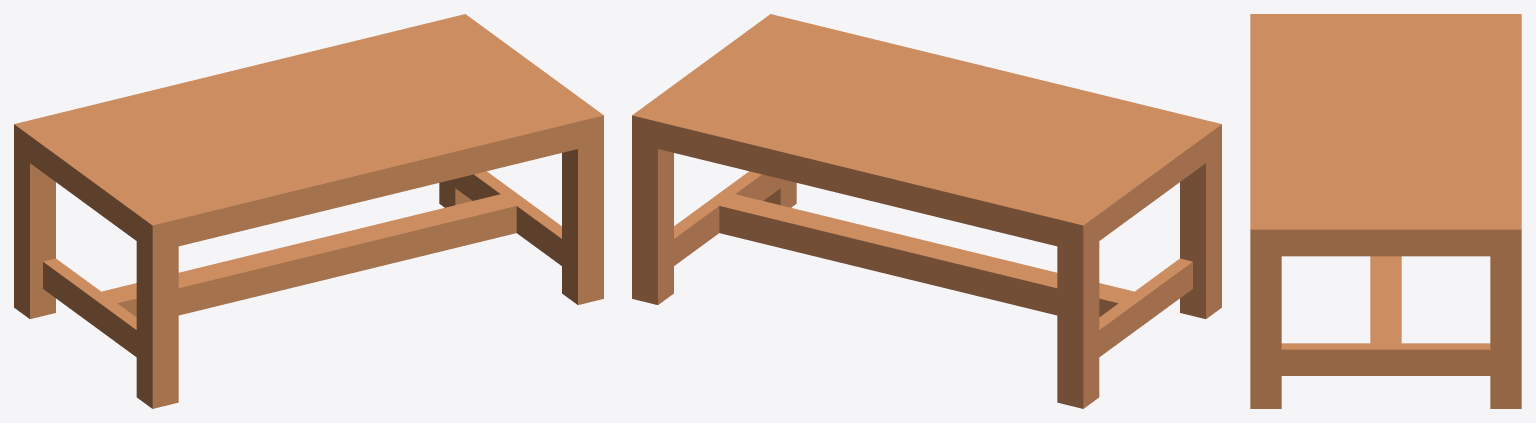
Rendered from table.gltf.
3 views of the same model, side by side, from view 1: azimuth 30°, elevation 25°; view 2: azimuth 150°, elevation 25°; view 3: azimuth 270°, elevation 25° (orthographic). The views are drawn at different scales.
Parts seen in each view (by area): view 1: table; view 2: table; view 3: table.
Part boxes in pixels (x1,y1,x2,y2): table: (14, 14, 603, 408); table: (632, 14, 1221, 408); table: (1250, 14, 1521, 408).
Size of the model in its own units: 0.8415 by 0.3267 by 0.4474.
Materials: 1 (1 with a texture image).
